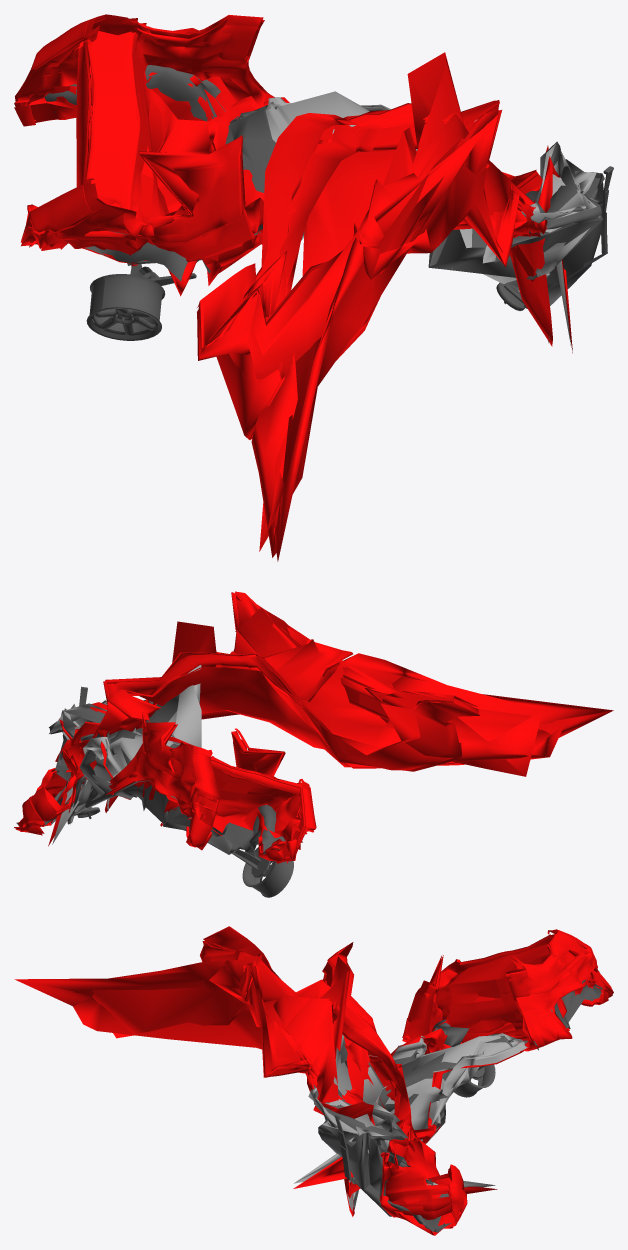
The model's file is crash_10.fbx.
3 views of the same model, one above another, from view 1: azimuth 30°, elevation 25°; view 2: azimuth 150°, elevation 25°; view 3: azimuth 270°, elevation 25° (orthographic). The views are drawn at different scales.
Visible parts, largest first — view 1: Mesh_0357_rip1, Mesh_0279_rip, Mesh_0365_rip, Mesh_0353_rip, Mesh_0381_rip1; view 2: Mesh_0357_rip1, Mesh_0279_rip, Mesh_0365_rip, Mesh_0353_rip, Mesh_0373_rip; view 3: Mesh_0357_rip1, Mesh_0365_rip, Mesh_0279_rip, Mesh_0353_rip, Mesh_0381_rip1.
Part boxes in pixels (left/top/right/bottom): Mesh_0357_rip1: left=14, top=14, right=572, bottom=561; Mesh_0279_rip: left=44, top=65, right=604, bottom=305; Mesh_0365_rip: left=265, top=91, right=600, bottom=347; Mesh_0353_rip: left=86, top=274, right=165, bottom=340; Mesh_0381_rip1: left=496, top=166, right=613, bottom=310; Mesh_0357_rip1: left=14, top=591, right=613, bottom=863; Mesh_0279_rip: left=16, top=694, right=285, bottom=854; Mesh_0365_rip: left=49, top=665, right=201, bottom=844; Mesh_0353_rip: left=242, top=847, right=293, bottom=897; Mesh_0373_rip: left=232, top=849, right=270, bottom=877; Mesh_0357_rip1: left=14, top=926, right=613, bottom=1235; Mesh_0365_rip: left=293, top=1033, right=527, bottom=1210; Mesh_0279_rip: left=313, top=979, right=602, bottom=1232; Mesh_0353_rip: left=454, top=1064, right=495, bottom=1097; Mesh_0381_rip1: left=334, top=1115, right=359, bottom=1185.
Bounding box in the file's own units: 7.32 × 3.73 × 9.51.
